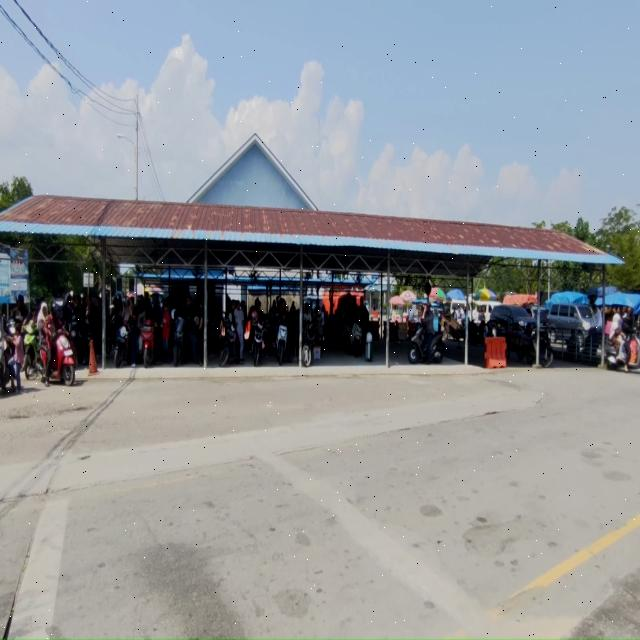Golongan II: (37, 329, 77, 386), (518, 325, 554, 368), (408, 323, 444, 364), (605, 333, 640, 370), (69, 316, 89, 364), (23, 319, 38, 380), (220, 320, 237, 367), (0, 327, 12, 391), (114, 321, 130, 368), (140, 320, 155, 368), (172, 316, 186, 367), (302, 320, 316, 368), (251, 319, 265, 366), (276, 324, 289, 365), (337, 318, 352, 352), (348, 322, 362, 357), (468, 320, 486, 346)
